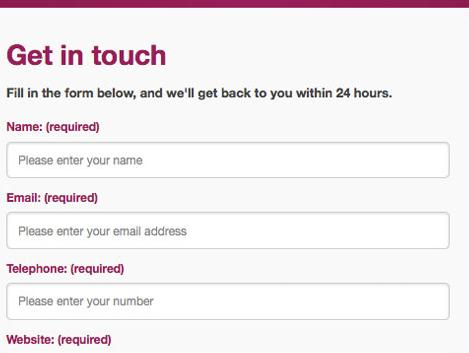field: (5, 281, 451, 321), (5, 209, 450, 249), (5, 141, 450, 179)
field_with_label: (3, 190, 452, 251), (4, 120, 452, 181), (3, 263, 453, 322)
